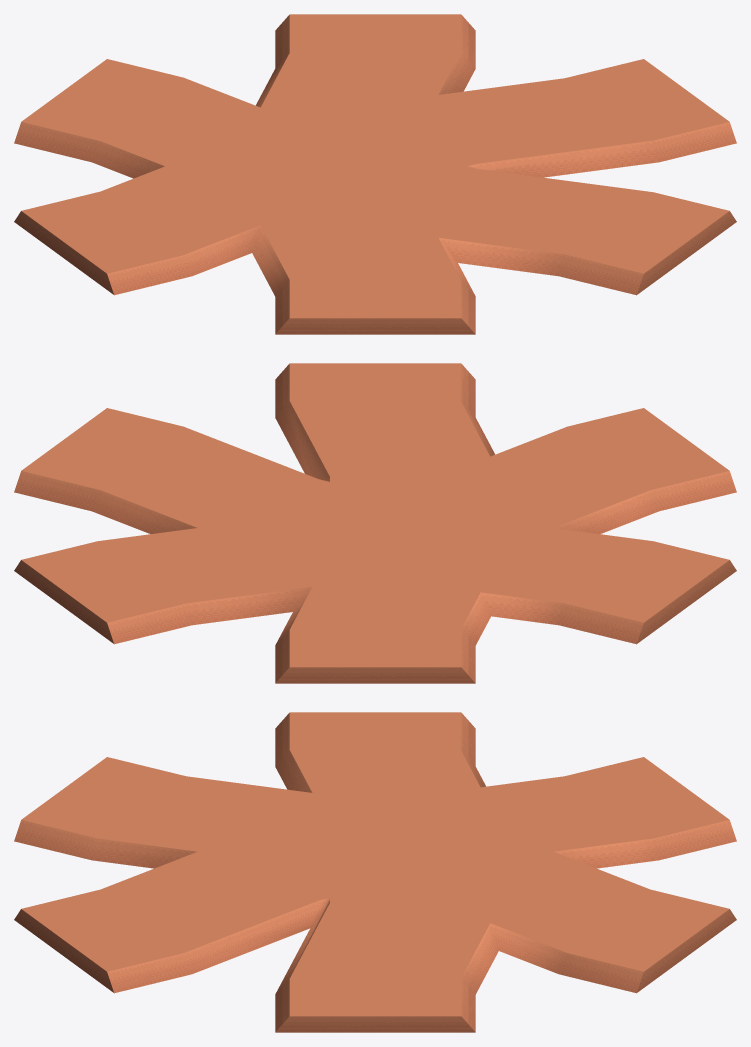
The model's file is path-crossing.glb.
3 renders of one model, top to bottom at view 1: azimuth 30°, elevation 25°; view 2: azimuth 150°, elevation 25°; view 3: azimuth 270°, elevation 25°, orthographic.
Parts seen in each view (by area): view 1: path-crossing; view 2: path-crossing; view 3: path-crossing.
Part boxes in pixels (box(x1,y1,x2,y2)): path-crossing: box(14, 14, 736, 334); path-crossing: box(14, 363, 736, 683); path-crossing: box(14, 712, 736, 1032).
Bounding box in the file's own units: 1 × 0.025 × 1.01.
1 material, 1 textured.
